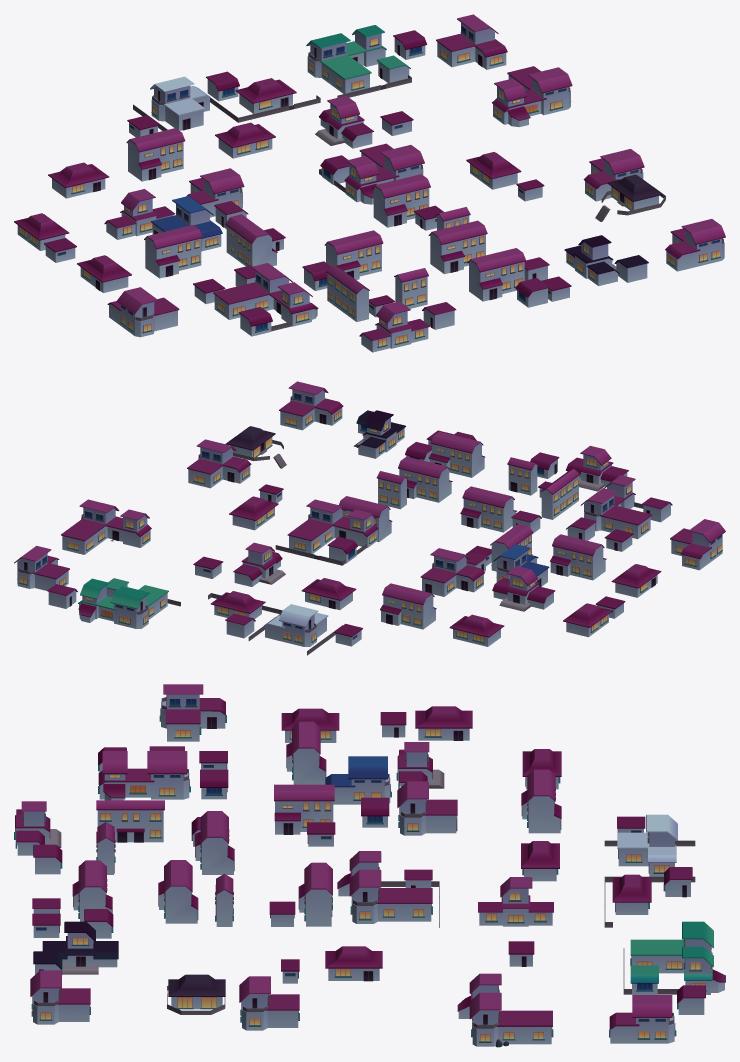
The model's file is World_Architecture.gltf.
The picture shows the model from 3 angles, top to bottom: view 1: azimuth 30°, elevation 25°; view 2: azimuth 150°, elevation 25°; view 3: azimuth 270°, elevation 25°; orthographic projection. The views are drawn at different scales.
Parts seen in each view (by area): view 1: World_Architecture; view 2: World_Architecture; view 3: World_Architecture.
Part boxes in pixels (box(x1,y1,x2,y2)): World_Architecture: box(14, 14, 725, 352); World_Architecture: box(14, 381, 725, 655); World_Architecture: box(14, 684, 725, 1047).
Size of the model in its own units: 236 by 17.42 by 222.
Materials: 1 (1 with a texture image).
